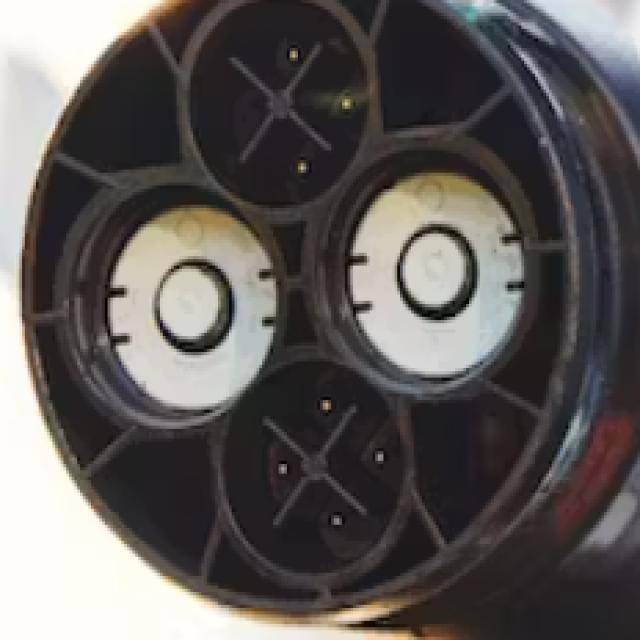CHAdeMO: (18, 0, 594, 622)
